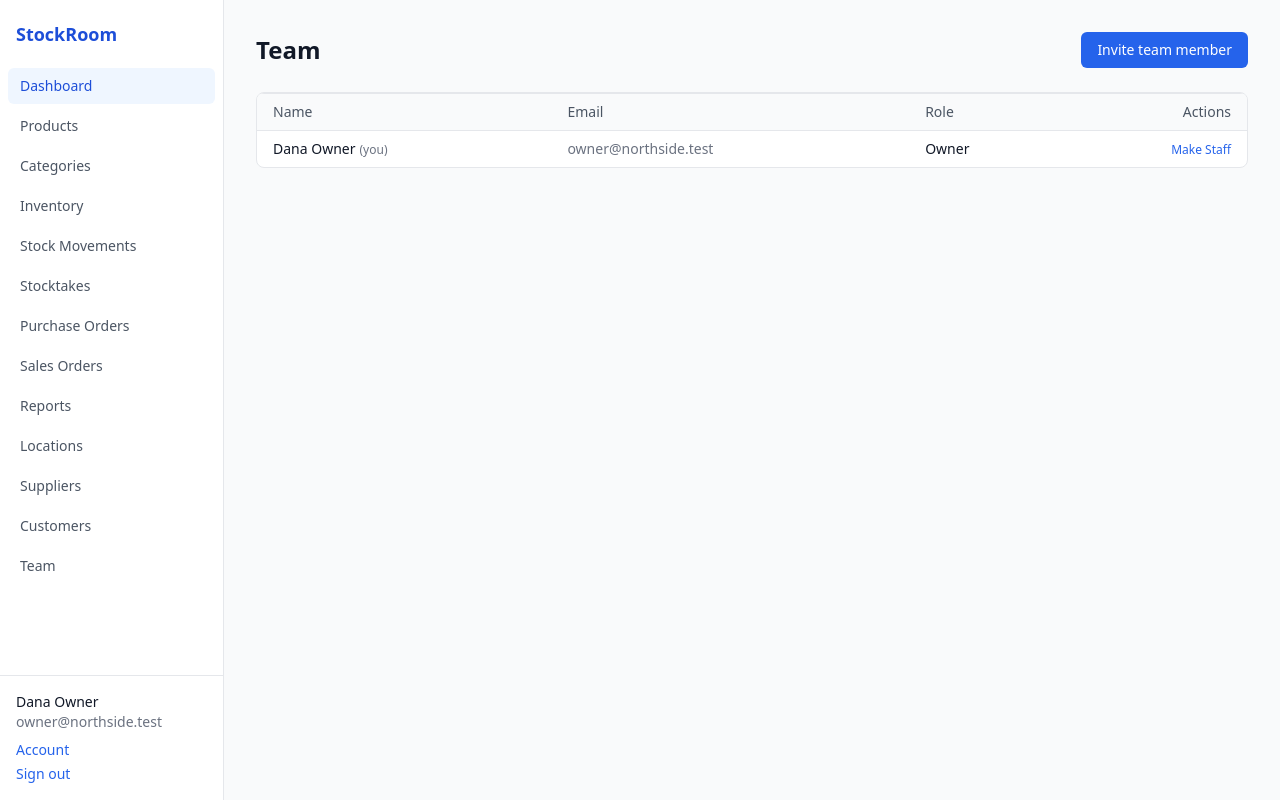
Scenario: TeamPage invite › keeps the form open with the server's message when the invite fails
The image size is (1280, 800).
Expected: the text "(you)" is shown, [360, 141, 388, 158]
Click the button "Invite team member": x=1165, y=50 [1081, 32, 1248, 68]
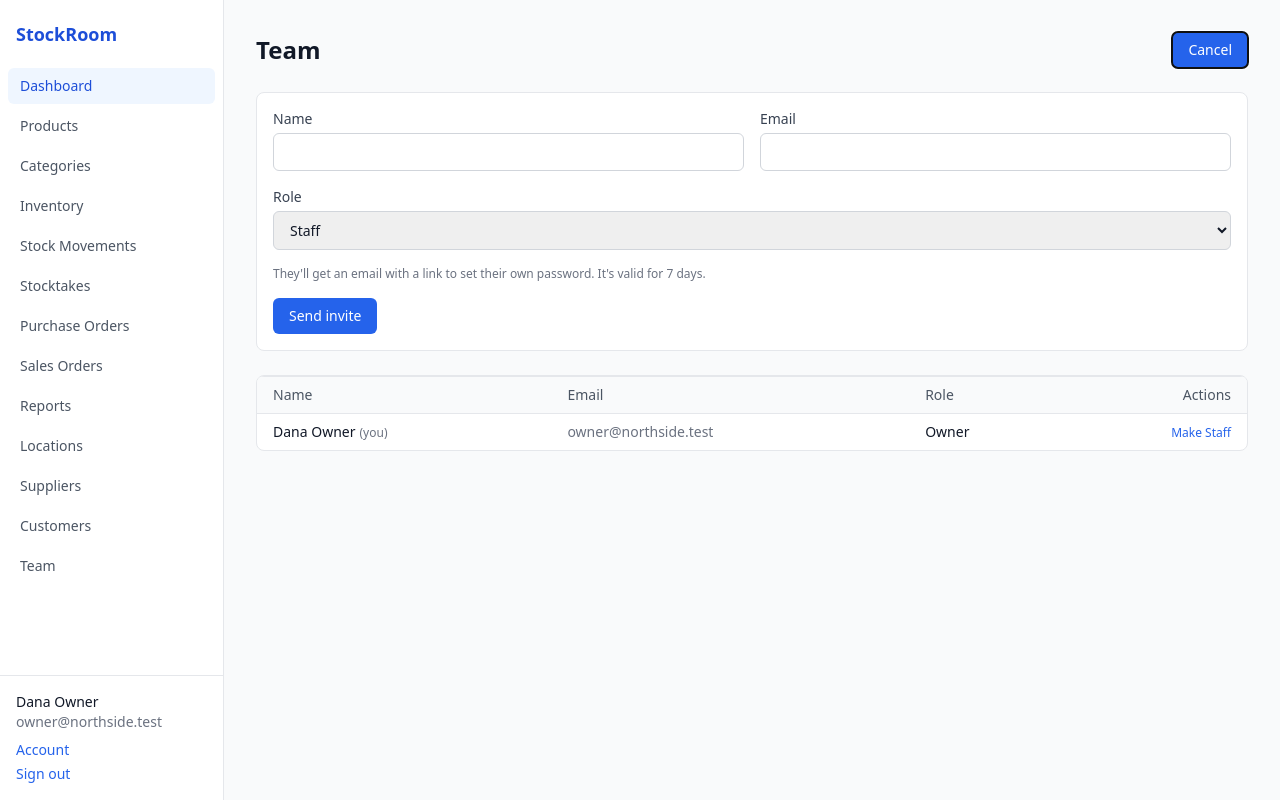
In the field labelled "Name": x=508, y=152 [273, 133, 744, 171], type "Sam Clerk"
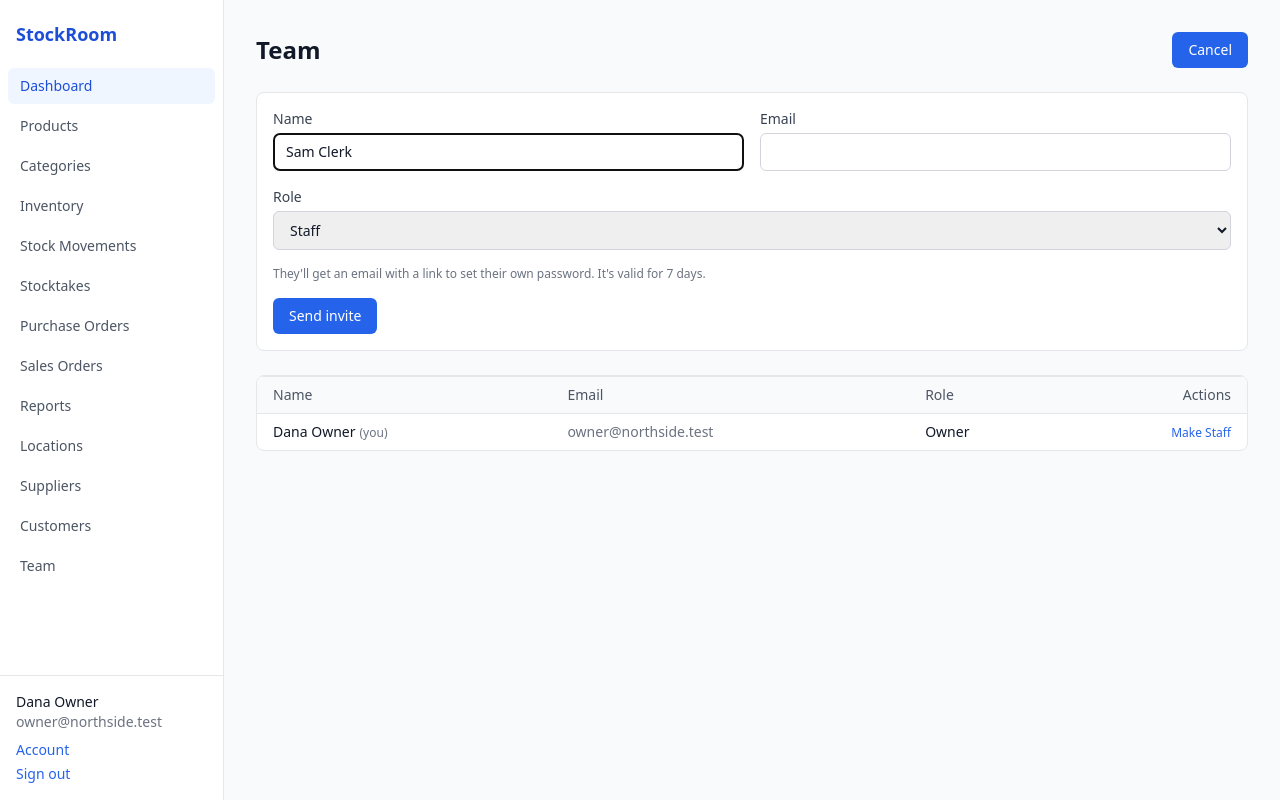
In the field labelled "Email": x=996, y=152 [760, 133, 1231, 171], type "clerk@northside.test"
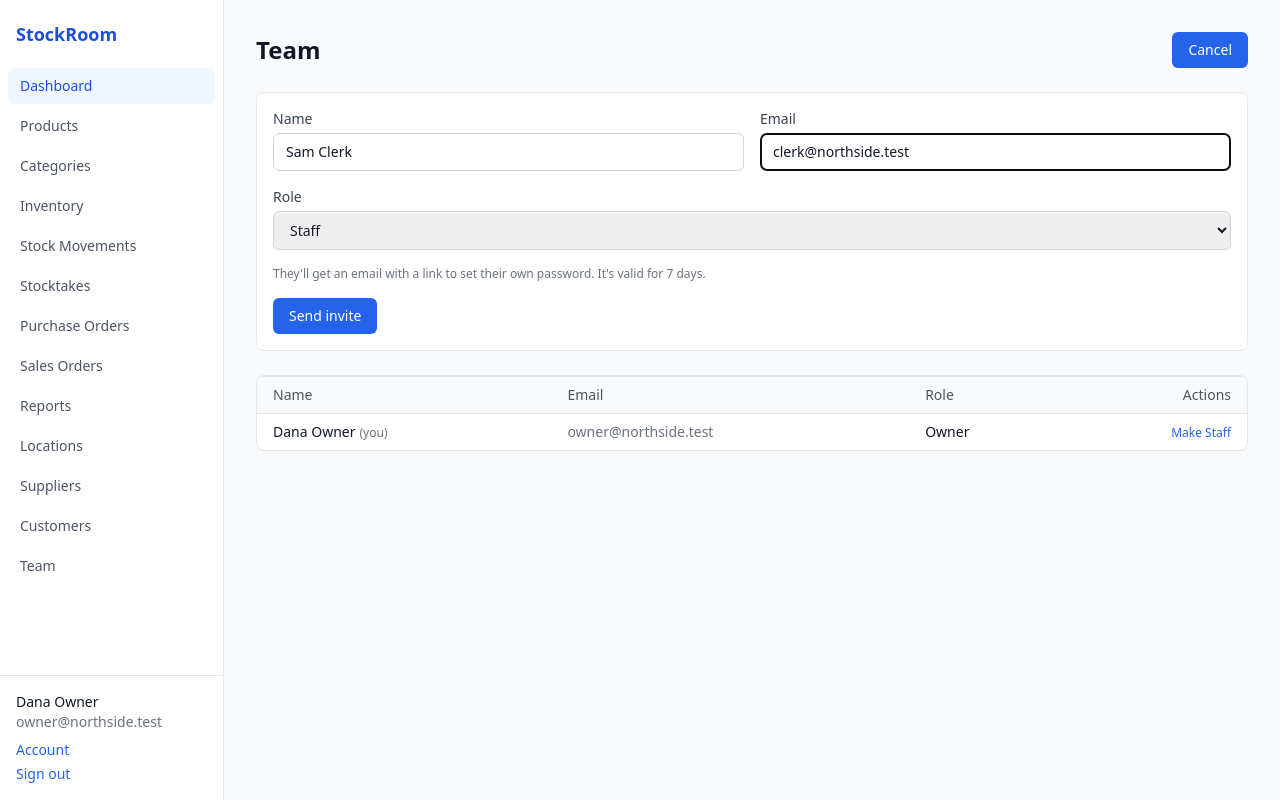
Click the button "Send invite": x=325, y=316 [273, 298, 377, 334]
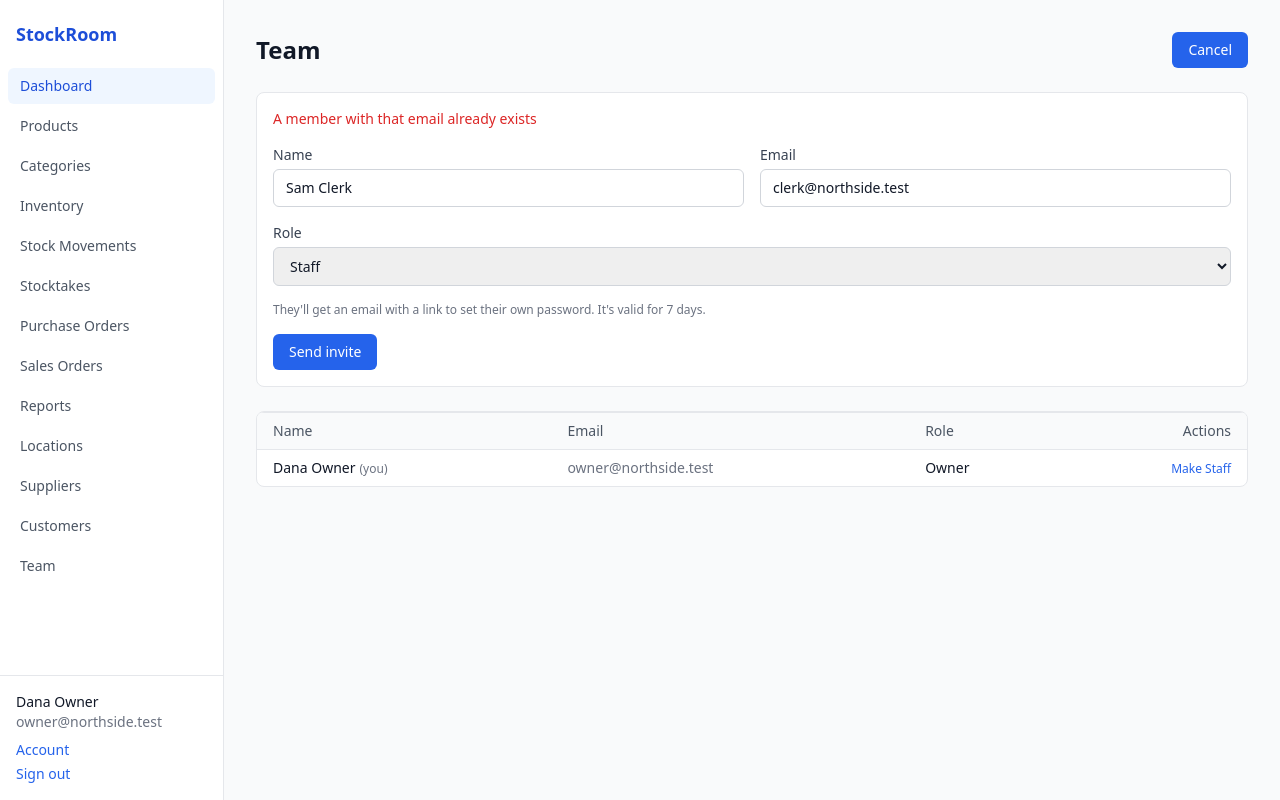
Expected: the text "A member with that email already exists" is shown, [273, 109, 537, 128]
